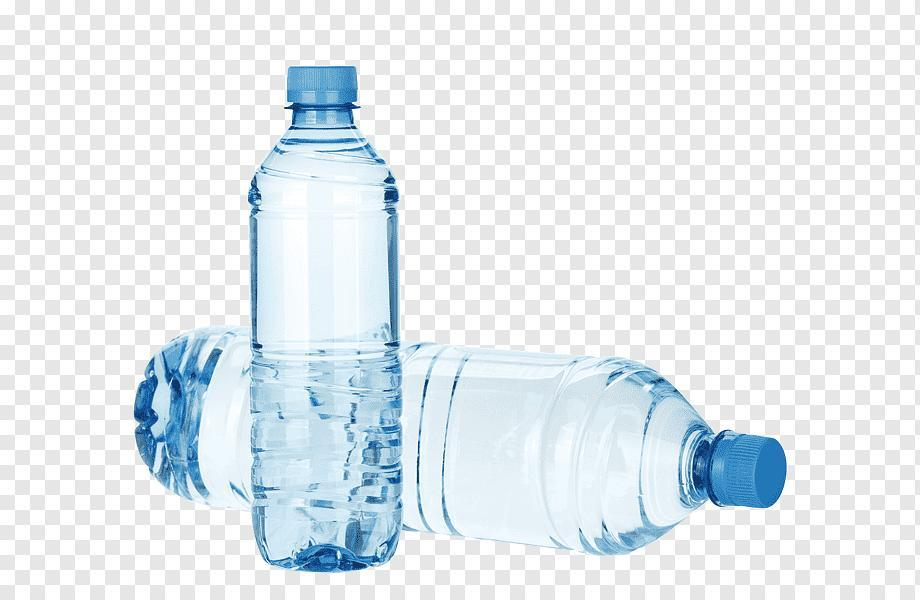bottle: (127, 317, 802, 565), (242, 59, 410, 581)
